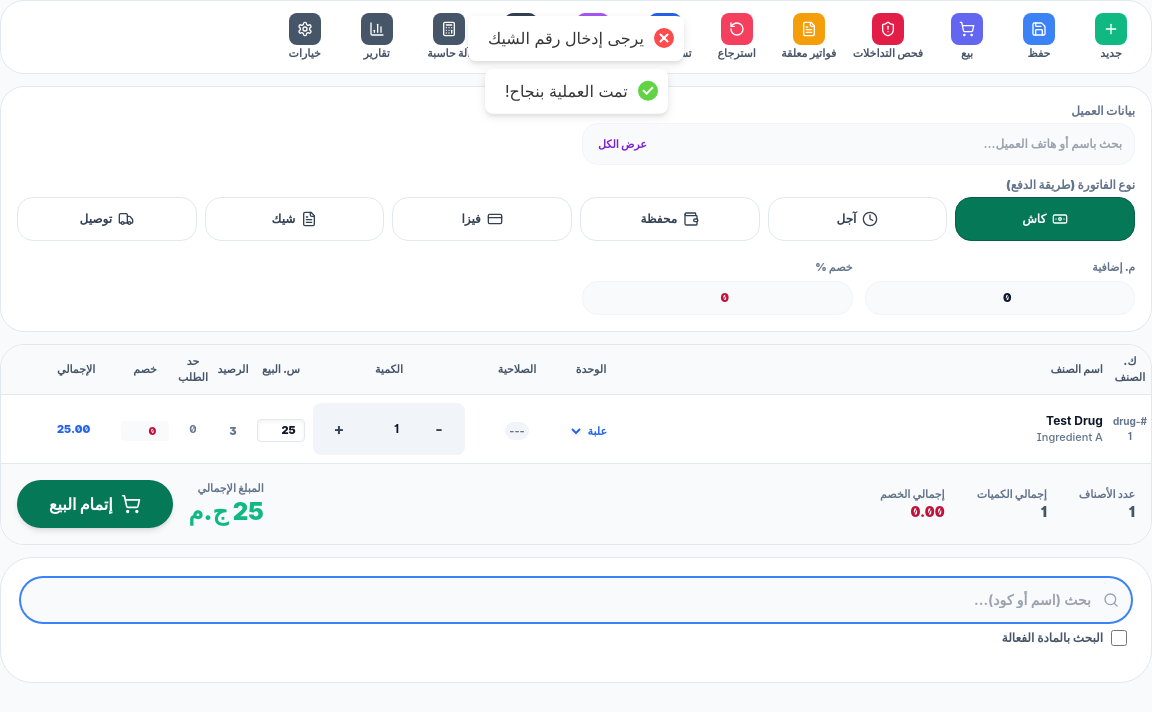
Test: rendered POS checkout flow › preserves searched patient loyalty points and remaining credit through selection into the POS store
Type "W3 Patient Main" into the field with placeholder "بحث باسم أو هاتف العميل..." at {"x": 858, "y": 144}, box left=582, top=123, right=1135, bottom=165
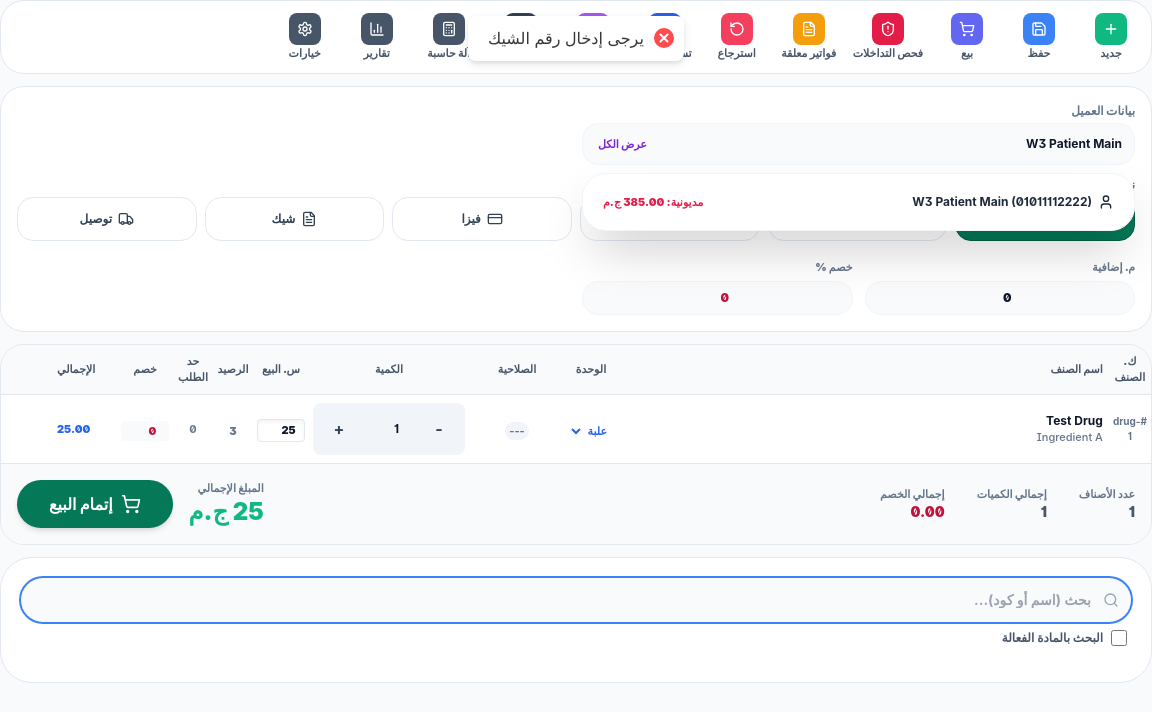
Click the button "W3 Patient Main (01011112222) مديونية: 385.00 ج.م" at {"x": 960, "y": 201}, box left=591, top=182, right=1126, bottom=222
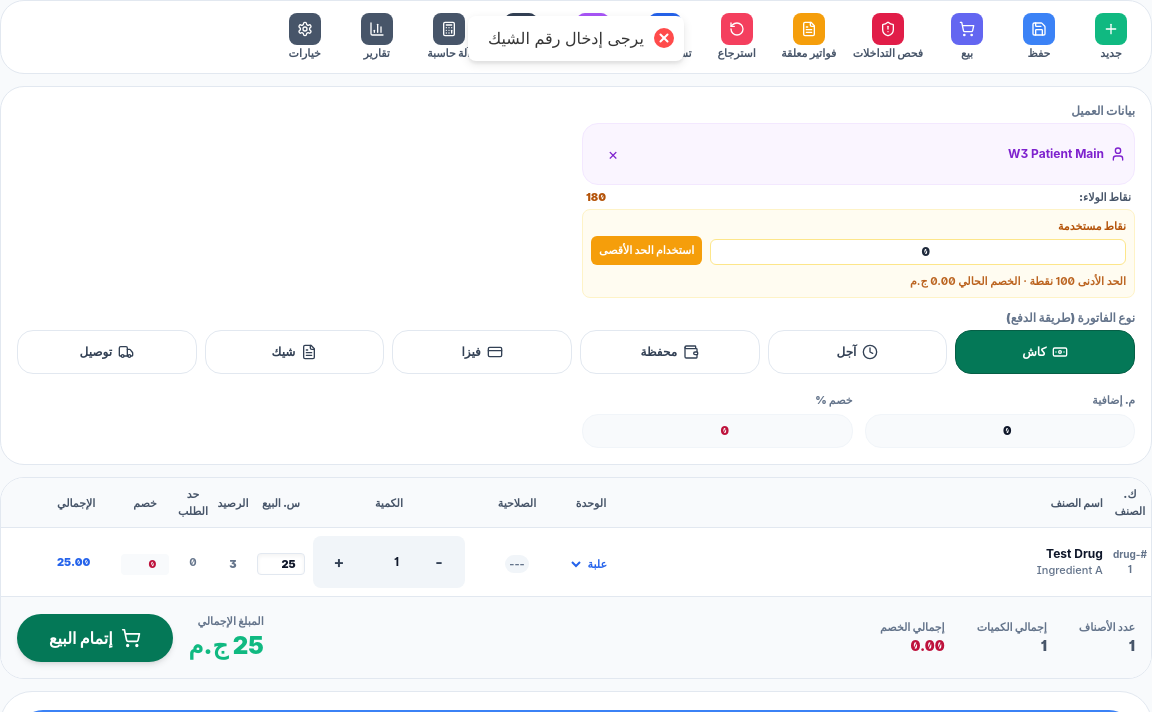
Expected: the text "180" is shown, left=586, top=189, right=606, bottom=205
